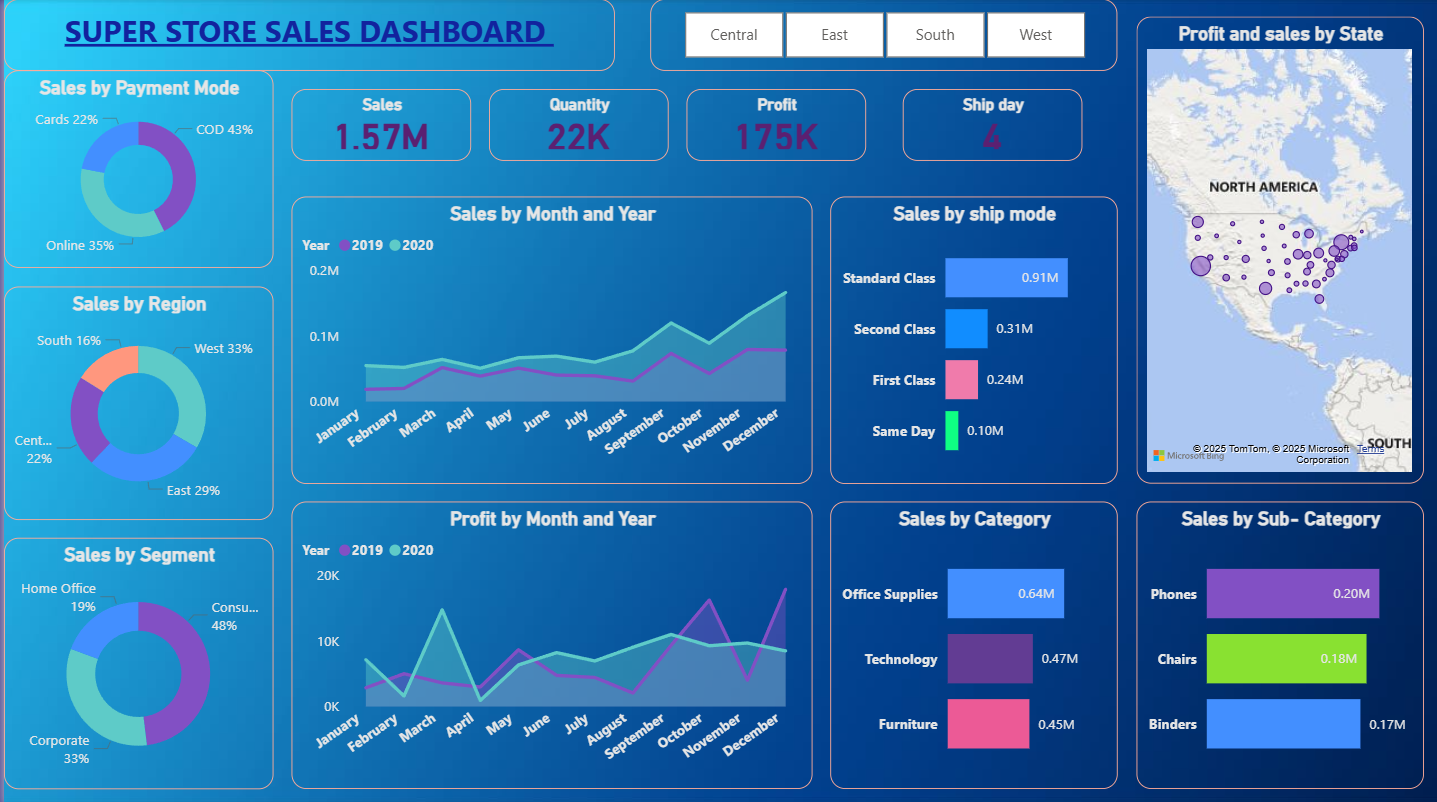

The page's visual inventory and layout, read from the dashboard file:
{"tool":"powerbi","page":{"name":"Page 1","canvas":[1280,720],"ordinal":0},"visuals":[{"type":"clusteredBarChart","title":"Sales by Category","fields":{"Category":["SuperStore_Sales_Dataset.Category"],"Y":["Sum(SuperStore_Sales_Dataset.Sales)"]},"box":[736,448,256,256],"z":0},{"type":"areaChart","title":" Sales by Month and Year","fields":{"Category":["SuperStore_Sales_Dataset.Order Date.Variation.Date Hierarchy.Month","SuperStore_Sales_Dataset.Order Date.Variation.Date Hierarchy.Day"],"Y":["Sum(SuperStore_Sales_Dataset.Sales)"],"Series":["SuperStore_Sales_Dataset.Order Date.Variation.Date Hierarchy.Year"]},"box":[256,176,464,256],"z":1000},{"type":"clusteredBarChart","title":"Sales by Sub- Category","fields":{"Category":["SuperStore_Sales_Dataset.Sub-Category"],"Y":["Sum(SuperStore_Sales_Dataset.Sales)"]},"box":[1008,448,256,256],"z":2000},{"type":"clusteredBarChart","title":"Sales by ship mode","fields":{"Category":["SuperStore_Sales_Dataset.Ship Mode"],"Y":["Sum(SuperStore_Sales_Dataset.Sales)"]},"box":[736,176,256,256],"z":3000},{"type":"areaChart","title":"Profit  by Month and Year","fields":{"Series":["SuperStore_Sales_Dataset.Order Date.Variation.Date Hierarchy.Year"],"Y":["Sum(SuperStore_Sales_Dataset.Profit)"],"Category":["SuperStore_Sales_Dataset.Order Date.Variation.Date Hierarchy.Month","SuperStore_Sales_Dataset.Order Date.Variation.Date Hierarchy.Day"]},"box":[256,448,464,256],"z":4000},{"type":"map","title":" Profit and sales  by State","fields":{"Category":["SuperStore_Sales_Dataset.State"],"Size":["Sum(SuperStore_Sales_Dataset.Sales)"]},"box":[1008,16,256,416],"z":5000},{"type":"donutChart","title":" Sales by Payment Mode","fields":{"Category":["SuperStore_Sales_Dataset.Payment Mode"],"Y":["Sum(SuperStore_Sales_Dataset.Sales)"]},"box":[0,64,240,176],"z":6000},{"type":"donutChart","title":" Sales by Region","fields":{"Y":["Sum(SuperStore_Sales_Dataset.Sales)"],"Category":["SuperStore_Sales_Dataset.Region"]},"box":[0,256,240,208],"z":7000},{"type":"donutChart","title":" Sales by Segment","fields":{"Category":["SuperStore_Sales_Dataset.Segment"],"Y":["Sum(SuperStore_Sales_Dataset.Sales)"]},"box":[0,480,240,224],"z":8000},{"type":"slicer","fields":{"Values":["SuperStore_Sales_Dataset.Region"]},"box":[576,0,416,64],"z":9000},{"type":"textbox","box":[0,0,544,64],"z":10000},{"type":"card","title":"Sales","fields":{"Values":["Sum(SuperStore_Sales_Dataset.Sales)"]},"box":[256,80,160,64],"z":11000},{"type":"card","title":"Quantity","fields":{"Values":["Sum(SuperStore_Sales_Dataset.Quantity)"]},"box":[432,80,160,64],"z":12000},{"type":"card","title":"Profit","fields":{"Values":["Sum(SuperStore_Sales_Dataset.Profit)"]},"box":[608,80,160,64],"z":13000},{"type":"card","title":"Ship day","fields":{"Values":["Avg(SuperStore_Sales_Dataset.averagedelivery)"]},"box":[800,80,160,64],"z":14000}]}

Visuals, with their boxes in screenshot pixels (x1, y1, x2, y2), scaled from the page's 1280x720 canvas onto the 1437x802 screenshot:
"Sales by Category" clusteredBarChart: (x1=826, y1=499, x2=1114, y2=784)
" Sales by Month and Year" areaChart: (x1=287, y1=196, x2=808, y2=481)
"Sales by Sub- Category" clusteredBarChart: (x1=1132, y1=499, x2=1419, y2=784)
"Sales by ship mode" clusteredBarChart: (x1=826, y1=196, x2=1114, y2=481)
"Profit  by Month and Year" areaChart: (x1=287, y1=499, x2=808, y2=784)
" Profit and sales  by State" map: (x1=1132, y1=18, x2=1419, y2=481)
" Sales by Payment Mode" donutChart: (x1=0, y1=71, x2=269, y2=267)
" Sales by Region" donutChart: (x1=0, y1=285, x2=269, y2=517)
" Sales by Segment" donutChart: (x1=0, y1=535, x2=269, y2=784)
slicer - SuperStore_Sales_Dataset.Region: (x1=647, y1=0, x2=1114, y2=71)
textbox: (x1=0, y1=0, x2=611, y2=71)
"Sales" card: (x1=287, y1=89, x2=467, y2=160)
"Quantity" card: (x1=485, y1=89, x2=665, y2=160)
"Profit" card: (x1=683, y1=89, x2=862, y2=160)
"Ship day" card: (x1=898, y1=89, x2=1078, y2=160)
